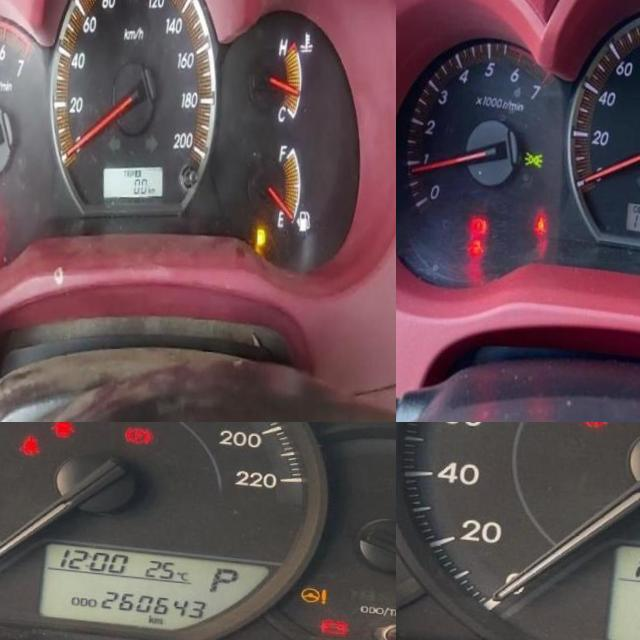Electronic Power Steering: (305, 578, 332, 597)
Seat Belt: (22, 432, 42, 454), (539, 213, 549, 234)
